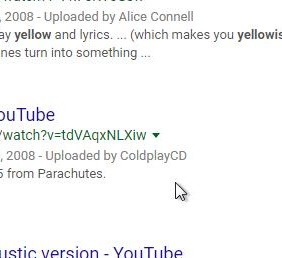cursor: (174, 180, 187, 201)
